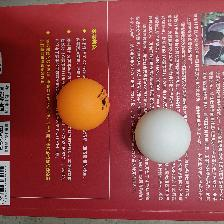WhiteBall: (134, 108, 191, 163)
YellowBall: (56, 77, 110, 130)
